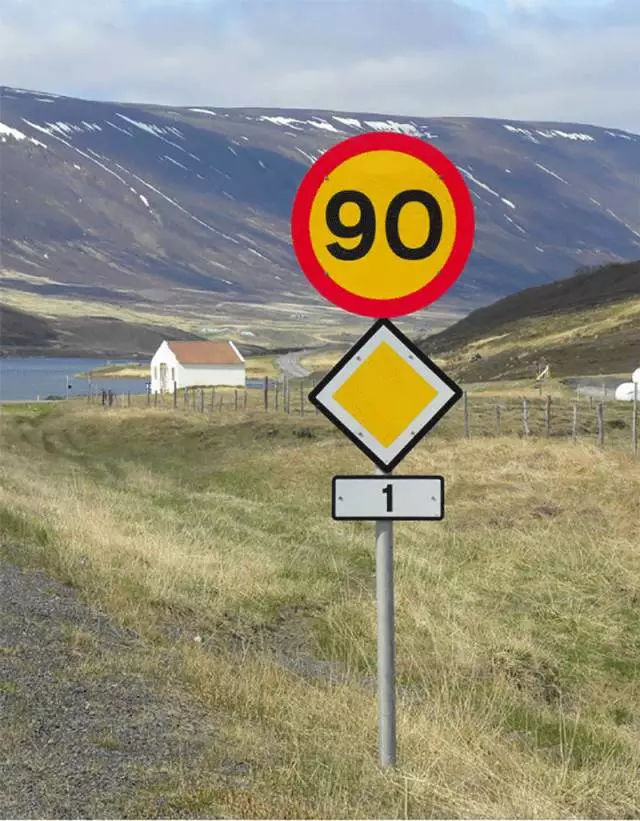Speed_limit_90km: (290, 131, 476, 319)
